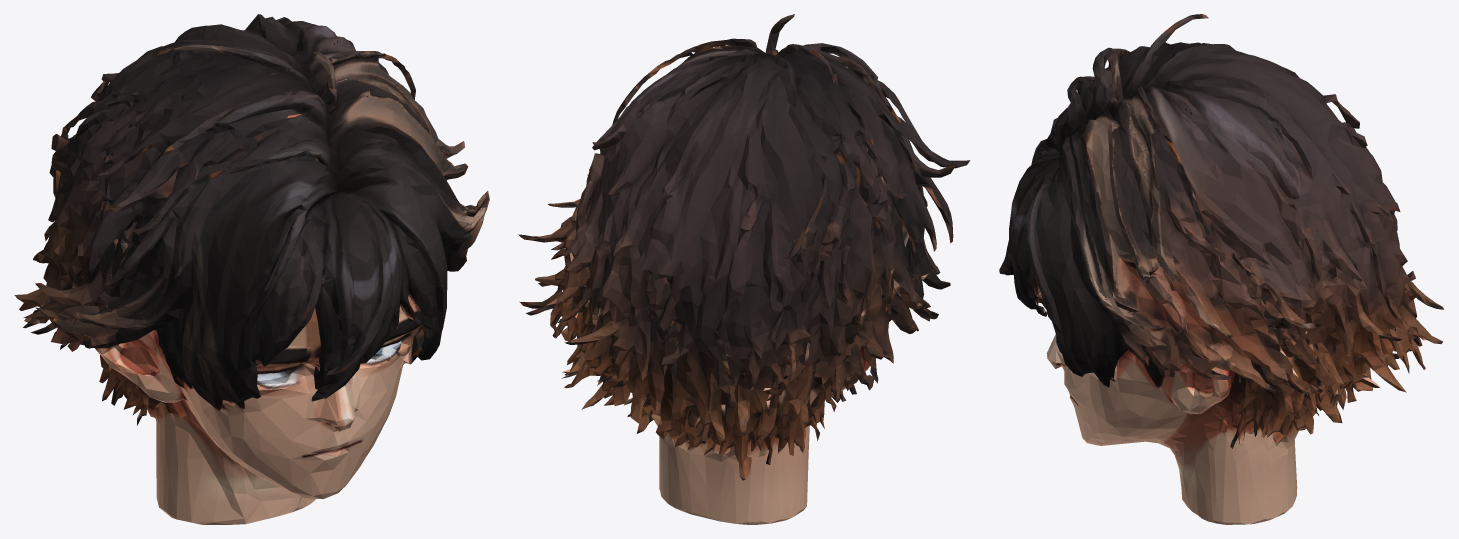
Rendered from side_kumpei_repaired_atlas.glb.
The picture shows the model from 3 angles, left to right: view 1: azimuth 30°, elevation 25°; view 2: azimuth 150°, elevation 25°; view 3: azimuth 270°, elevation 25°; orthographic projection. The views are drawn at different scales.
Visible parts, largest first — view 1: temp_mesh.ply; view 2: temp_mesh.ply; view 3: temp_mesh.ply.
Part boxes in pixels (x1,y1,x2,y2): temp_mesh.ply: [14, 14, 489, 524]; temp_mesh.ply: [518, 14, 970, 524]; temp_mesh.ply: [999, 14, 1443, 524].
Bounding box in the file's own units: 1.1 × 1.22 × 1.11.
Materials: 1 (1 with a texture image).
